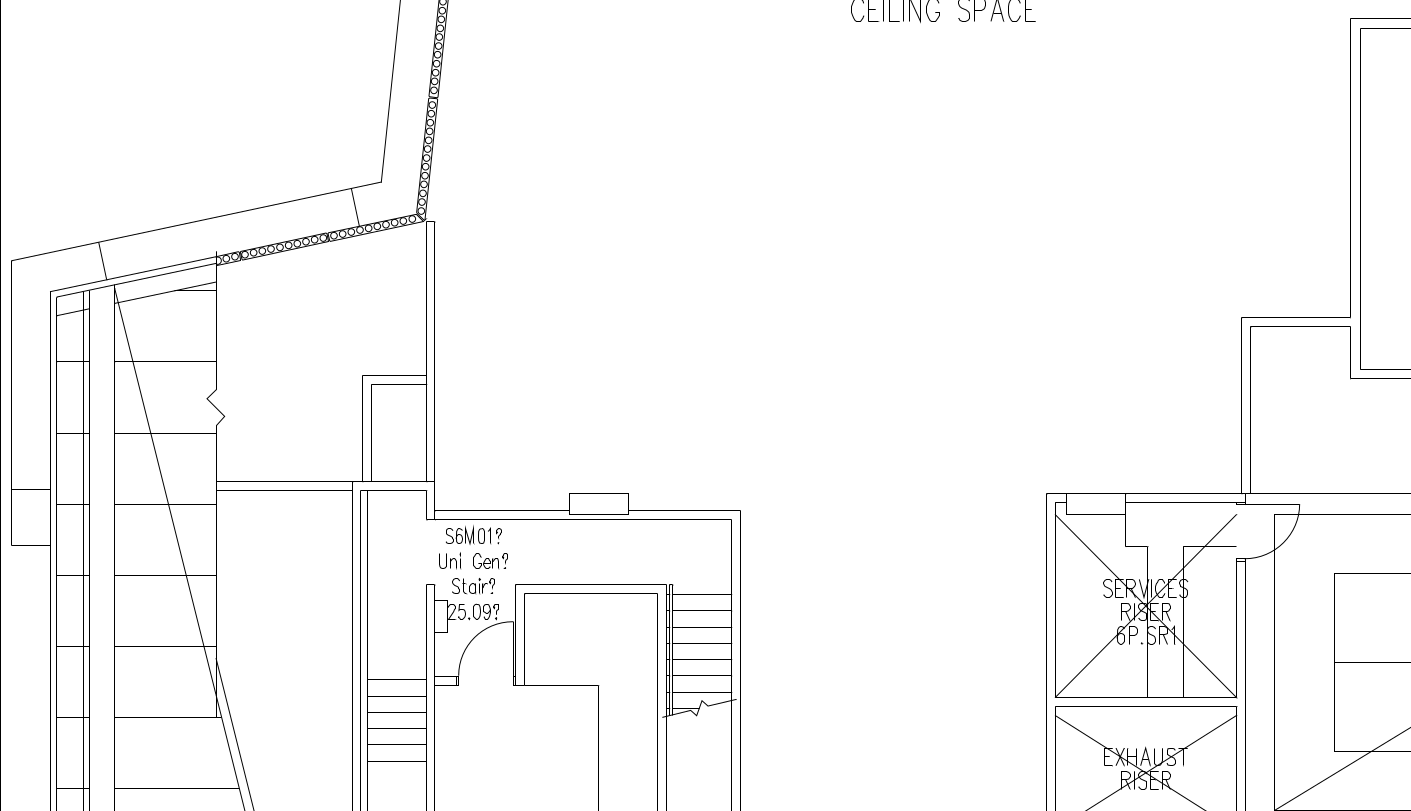door: (457, 617, 514, 691), (1241, 498, 1302, 565)
